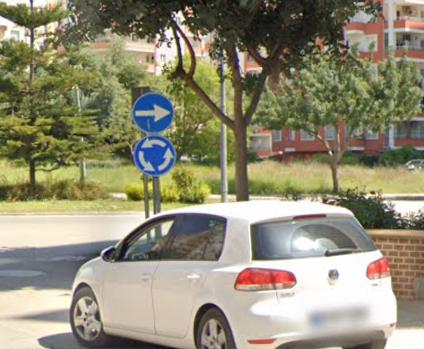crossroads: (135, 135, 177, 176)
turnright: (133, 92, 174, 134)
